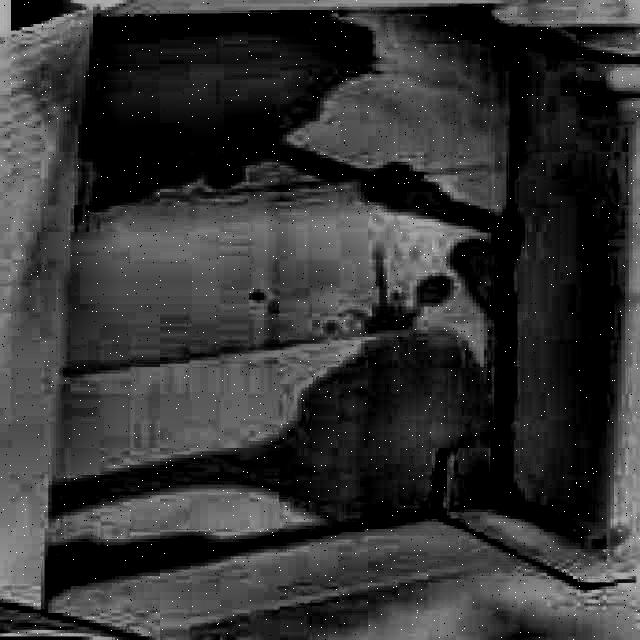box: (2, 2, 639, 639)
wet: (84, 14, 506, 232), (57, 325, 501, 515)
